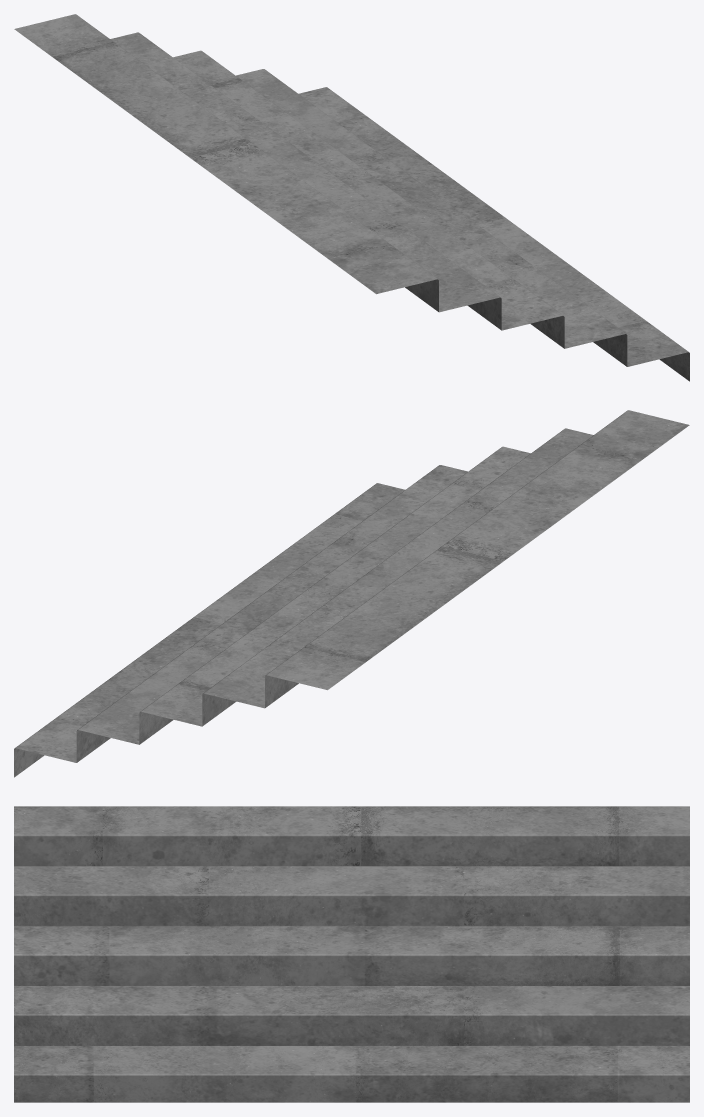
Rendered from SM_Steps_03.fbx.
3 renders of one model, top to bottom at view 1: azimuth 30°, elevation 25°; view 2: azimuth 150°, elevation 25°; view 3: azimuth 270°, elevation 25°, orthographic. The views are drawn at different scales.
Parts seen in each view (by area): view 1: SM_Steps_05; view 2: SM_Steps_05; view 3: SM_Steps_05.
Part boxes in pixels (left/top/right/bottom): SM_Steps_05: left=14, top=14, right=689, bottom=381; SM_Steps_05: left=14, top=410, right=689, bottom=777; SM_Steps_05: left=14, top=806, right=689, bottom=1102.
Size of the model in its own units: 200 by 100 by 400.
